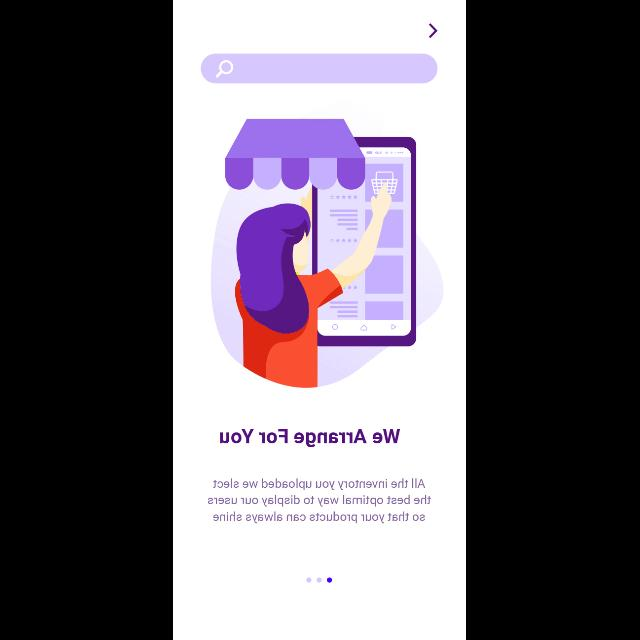icon: (216, 61, 234, 78), (429, 24, 438, 38)
image: (212, 120, 444, 388)
input: (202, 54, 438, 84)
pageindicator: (307, 578, 333, 582)
text: (208, 478, 432, 524), (220, 429, 400, 447)
